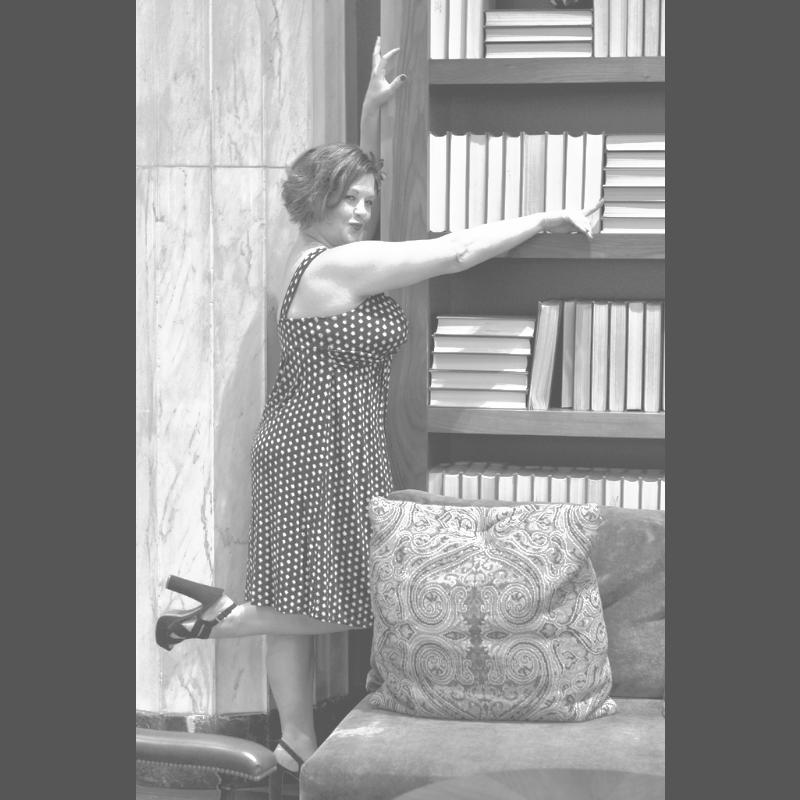pillow: (366, 493, 619, 713)
